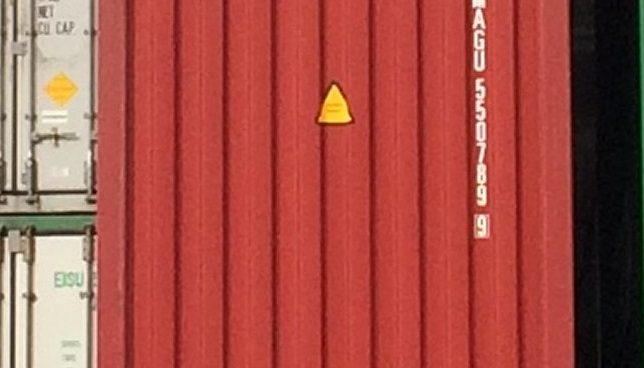container_no_door: (97, 1, 574, 364)
